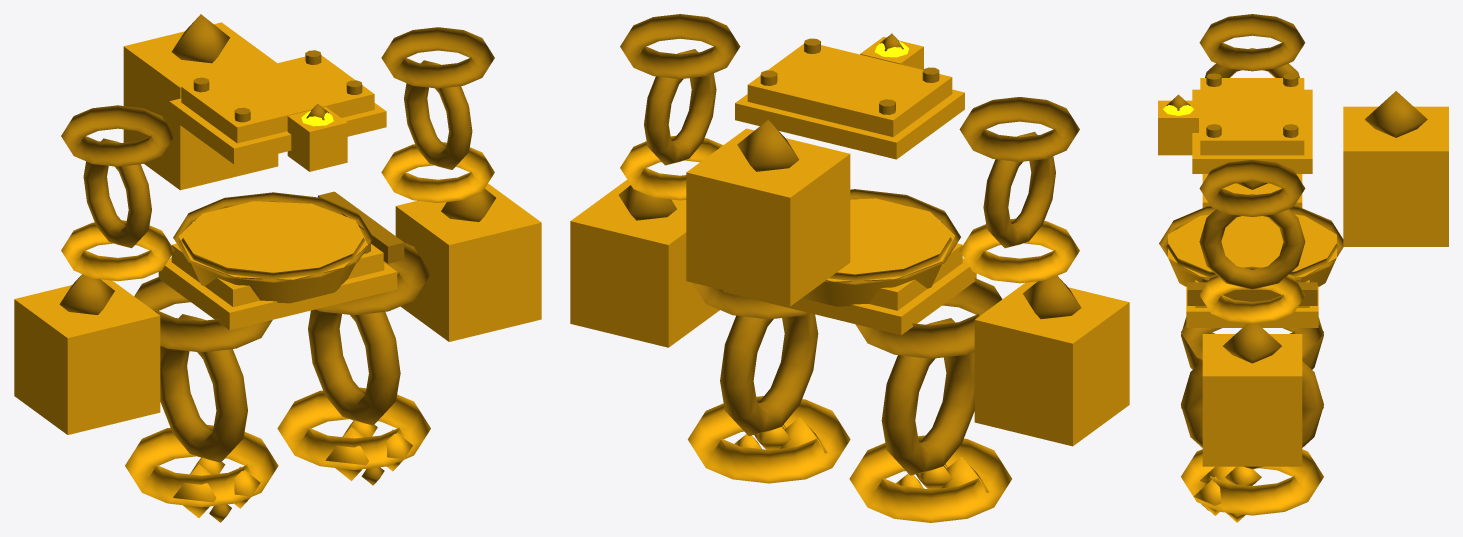
Rendered from golem_075.glb.
3 views of the same model, side by side, from view 1: azimuth 30°, elevation 25°; view 2: azimuth 150°, elevation 25°; view 3: azimuth 270°, elevation 25° (orthographic). The views are drawn at different scales.
Visible parts, largest first — view 1: Body, Detail; view 2: Body, Detail; view 3: Body, Detail.
Part boxes in pixels (box(x1,y1,x2,y2)): Body: box(14, 22, 541, 517); Detail: box(59, 14, 495, 522); Body: box(570, 37, 1129, 522); Detail: box(618, 14, 1081, 475); Body: box(1158, 78, 1448, 522); Detail: box(1159, 14, 1427, 510).
Bounding box in the file's own units: 1.48 × 1.24 × 0.8432.
